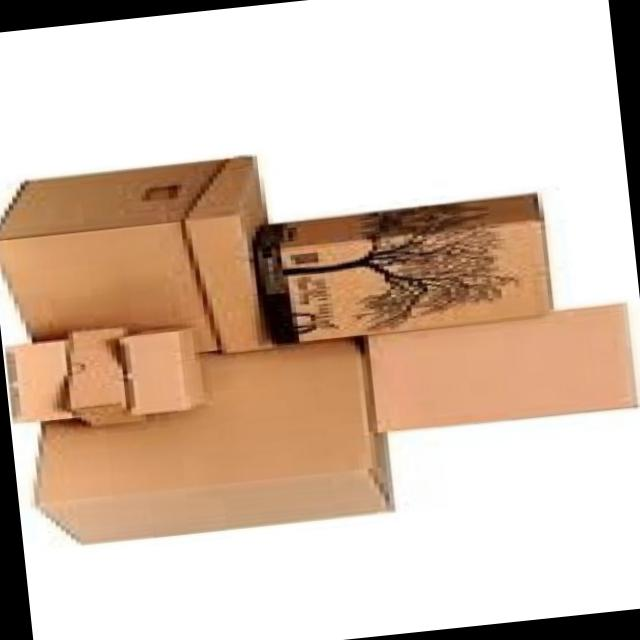cardboard paper: (38, 336, 393, 540), (255, 193, 552, 341), (369, 303, 637, 428)
